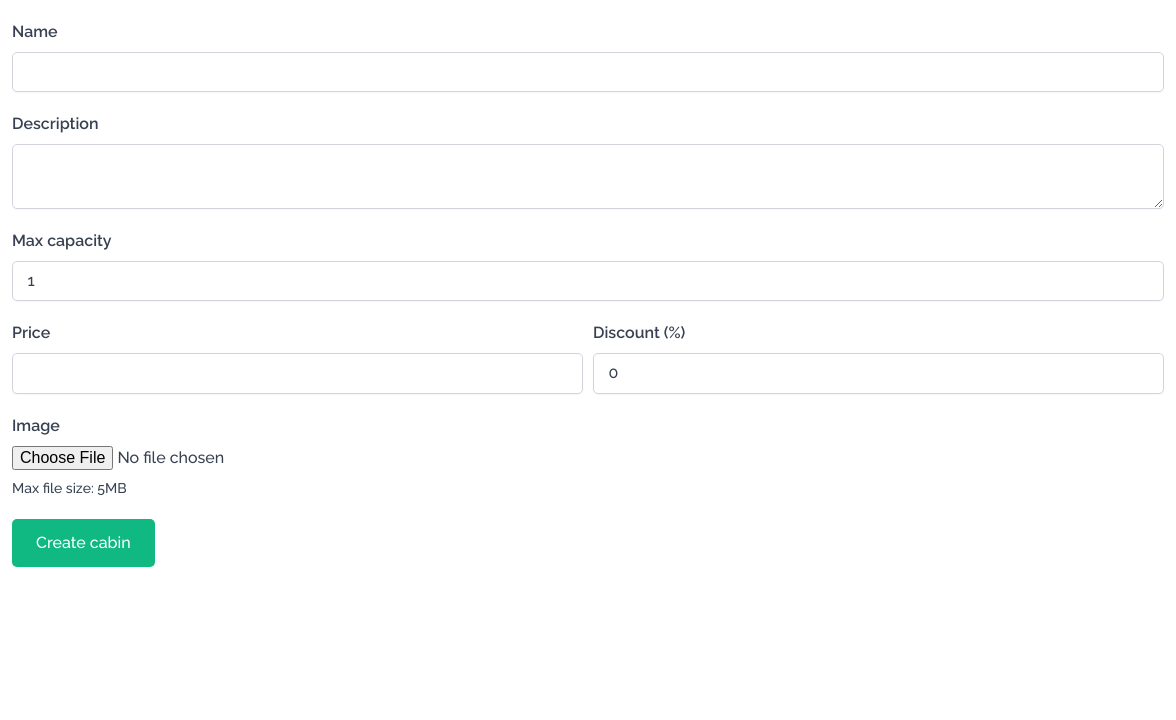
it: CreateCabinForm › should show an error message if max capacity value is a decimal number
This screenshot has width=1176, height=720.
Replace the text in the number field labelled "Max capacity" with "1.5": [588, 281] box [12, 261, 1164, 301]
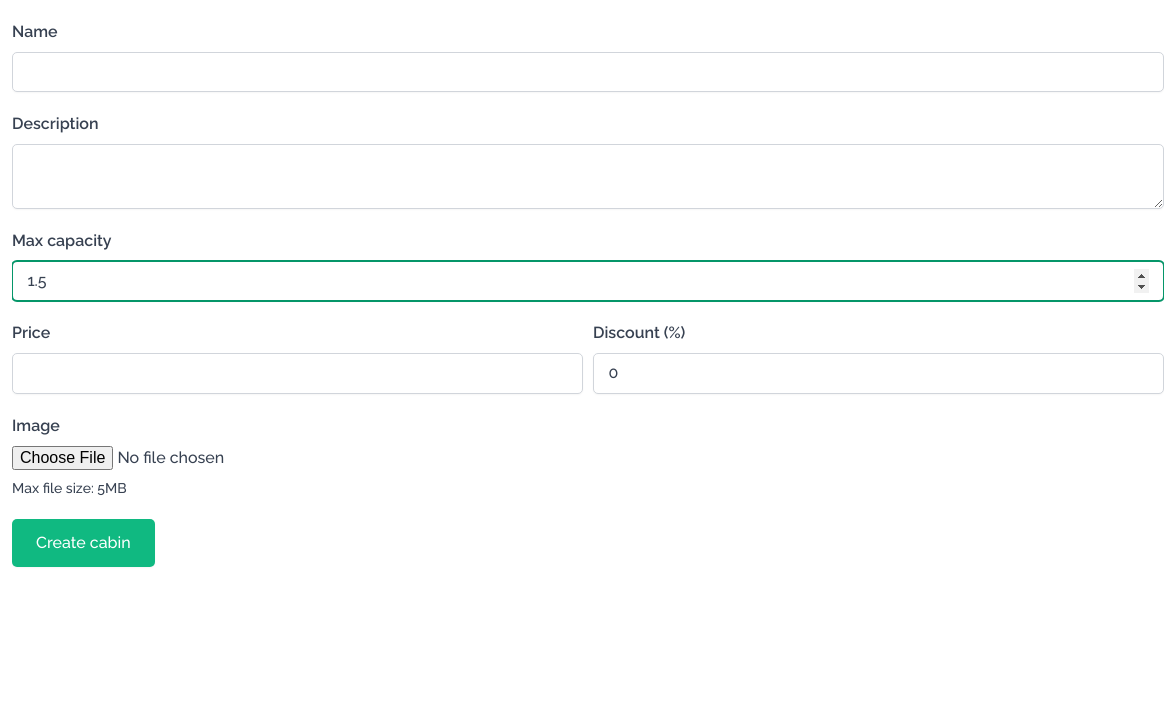
Click the button "Create cabin": [83, 542] box [12, 518, 155, 566]
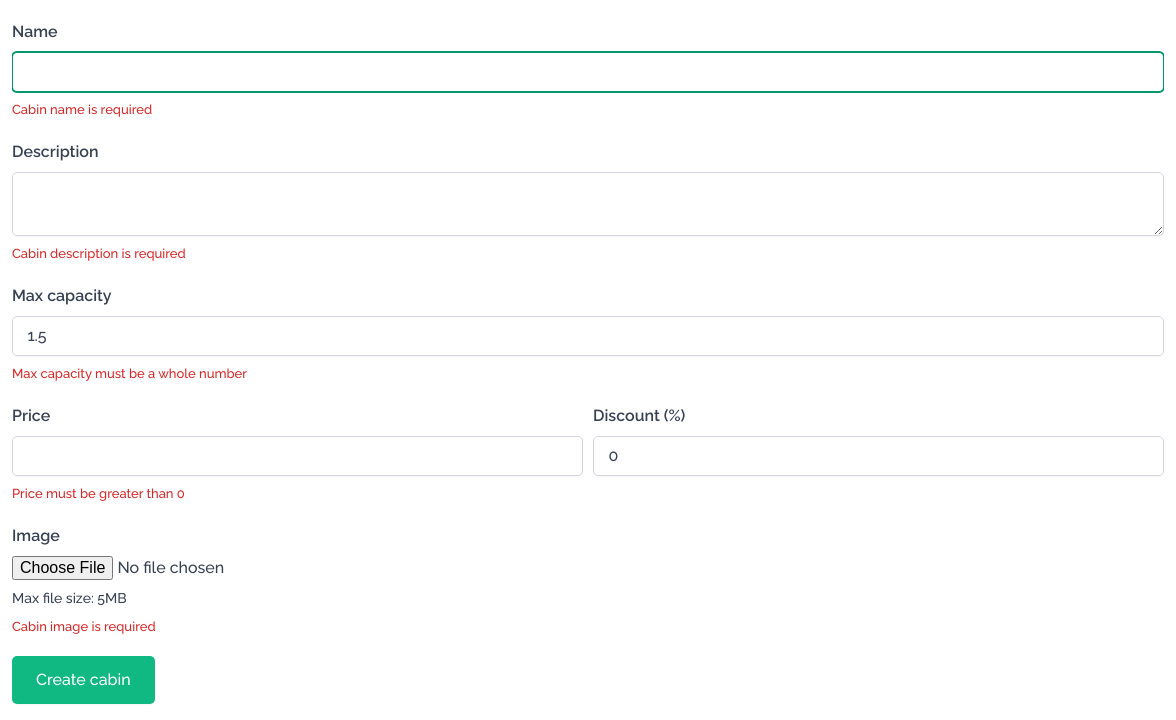
Result: the text "Max capacity must be a whole number" is shown at [12, 366, 247, 381]
